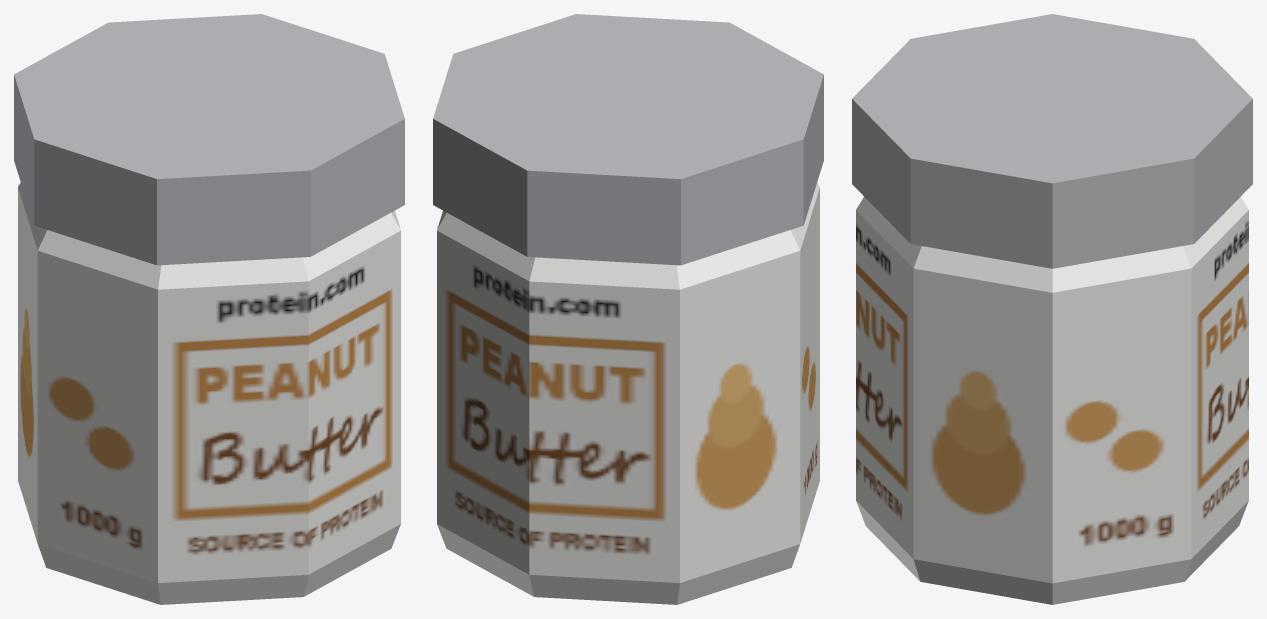
Rendered from pb_jar.glb.
3 views of the same model, side by side, from view 1: azimuth 30°, elevation 25°; view 2: azimuth 150°, elevation 25°; view 3: azimuth 270°, elevation 25° (orthographic).
Visible parts, largest first — view 1: pb_jar; view 2: pb_jar; view 3: pb_jar.
Part boxes in pixels (bbox=[...]): pb_jar: bbox=[14, 14, 404, 604]; pb_jar: bbox=[433, 14, 823, 604]; pb_jar: bbox=[852, 14, 1252, 604].
Bounding box in the file's own units: 0.102 × 0.12 × 0.102.
Materials: 1 (1 with a texture image).
